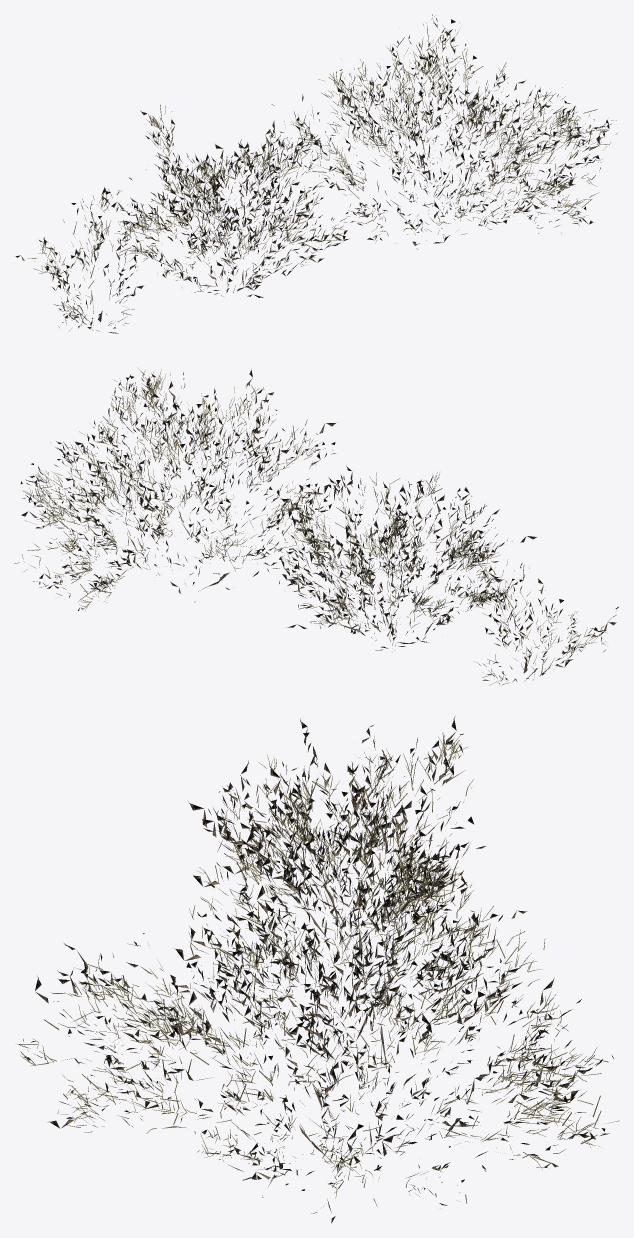
Rendered from searsia_burchellii_lod0.glb.
The picture shows the model from 3 angles, top to bottom: view 1: azimuth 30°, elevation 25°; view 2: azimuth 150°, elevation 25°; view 3: azimuth 270°, elevation 25°; orthographic projection. The views are drawn at different scales.
Visible parts, largest first — view 1: searsia_burchellii_large_LOD0, searsia_burchellii_medium_LOD0, searsia_burchellii_small_LOD0; view 2: searsia_burchellii_large_LOD0, searsia_burchellii_medium_LOD0, searsia_burchellii_small_LOD0; view 3: searsia_burchellii_large_LOD0, searsia_burchellii_medium_LOD0, searsia_burchellii_small_LOD0.
Boxes of the visible parts, x1,y1,x2,y2 form: searsia_burchellii_large_LOD0: (271,14,617,249); searsia_burchellii_medium_LOD0: (111,104,355,297); searsia_burchellii_small_LOD0: (15,187,143,333); searsia_burchellii_large_LOD0: (14,367,335,610); searsia_burchellii_medium_LOD0: (276,465,536,650); searsia_burchellii_small_LOD0: (468,551,618,685); searsia_burchellii_large_LOD0: (17,853,619,1223); searsia_burchellii_medium_LOD0: (174,716,485,1056); searsia_burchellii_small_LOD0: (222,725,470,924).
Size of the model in its own units: 8.33 by 3.16 by 5.02.
Materials: 2 (2 with a texture image).
